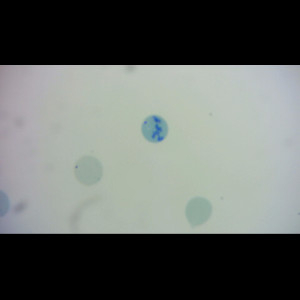aggregate reticulocyte: (140, 115, 169, 143)
erythrocyte: (184, 195, 213, 228)
punctate reticulocyte: (72, 155, 103, 187)
